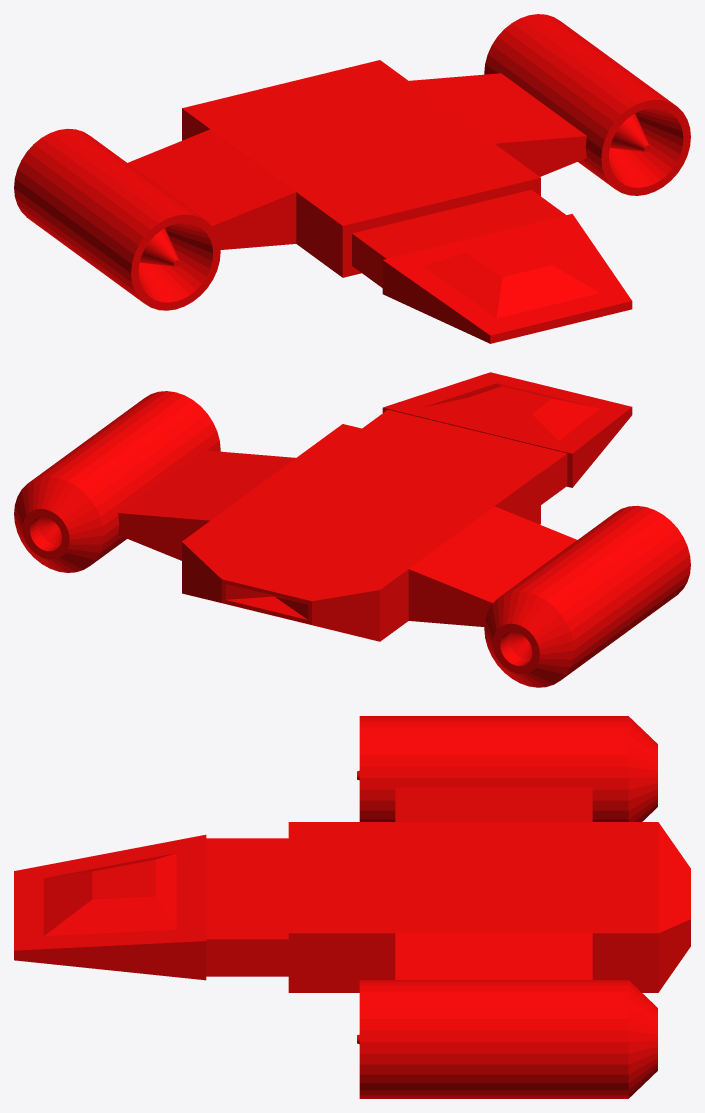
File: Y-Wing.fbx
3 renders of one model, top to bottom at view 1: azimuth 30°, elevation 25°; view 2: azimuth 150°, elevation 25°; view 3: azimuth 270°, elevation 25°, orthographic. The views are drawn at different scales.
Parts seen in each view (by area): view 1: Cube; view 2: Cube; view 3: Cube.
Boxes of the visible parts, <box> form: Cube: <box>14,14,690,343</box>; Cube: <box>14,372,690,687</box>; Cube: <box>14,716,690,1098</box>.
Bounding box in the file's own units: 181 × 28.95 × 165.
